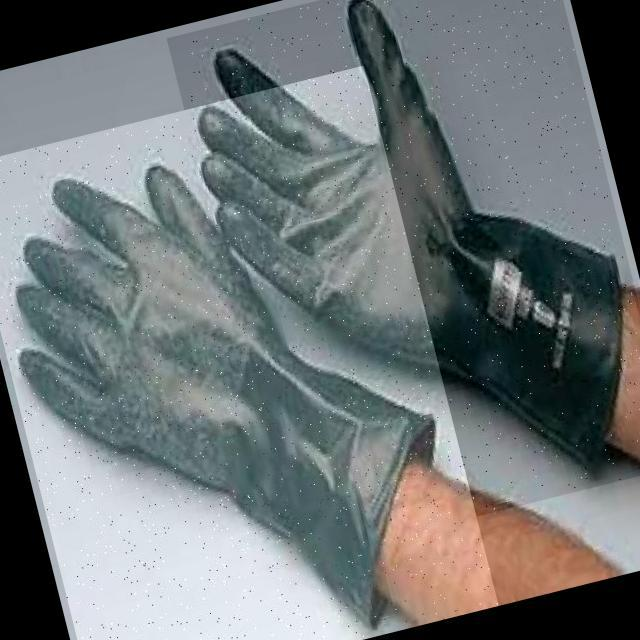Gloves: (0, 65, 498, 640), (166, 0, 640, 560)
